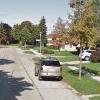Car: (31, 54, 67, 81)
